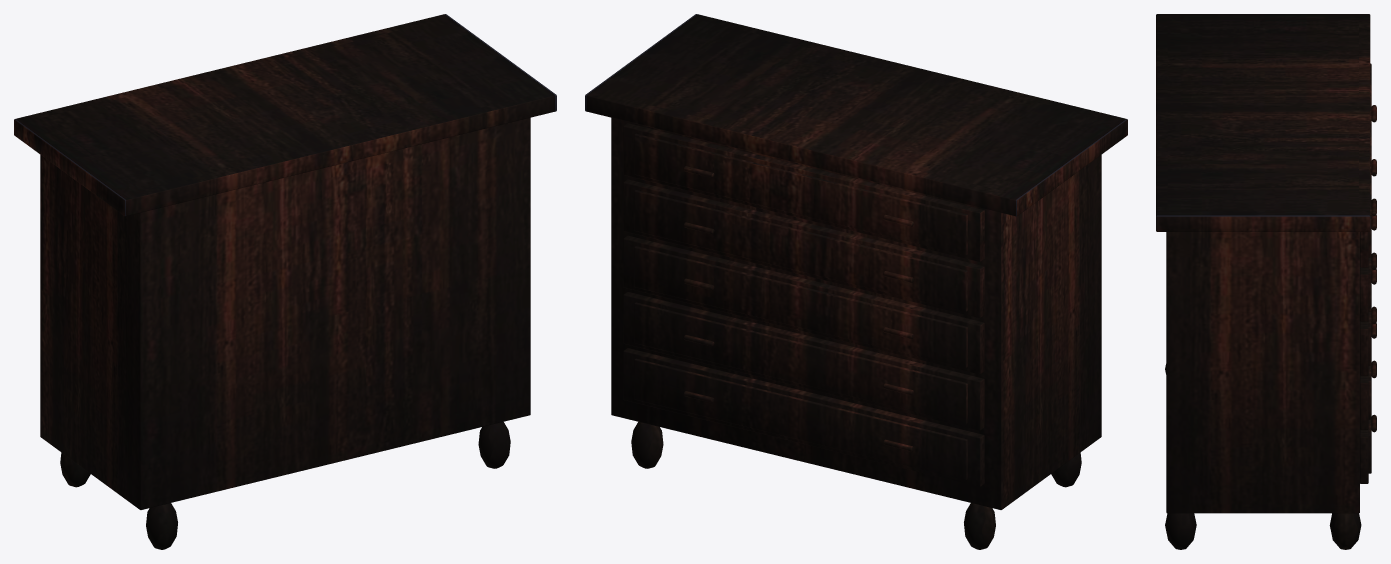
Rendered from Antique_Chest_03.fbx.
3 views of the same model, side by side, from view 1: azimuth 30°, elevation 25°; view 2: azimuth 150°, elevation 25°; view 3: azimuth 270°, elevation 25° (orthographic). The views are drawn at different scales.
Visible parts, largest first — view 1: Antique_Chest; view 2: Antique_Chest; view 3: Antique_Chest.
Part boxes in pixels (x1,y1,x2,y2): Antique_Chest: (14,14,556,549); Antique_Chest: (585,14,1127,549); Antique_Chest: (1156,14,1376,549).
Bounding box in the file's own units: 1.35 × 1.11 × 0.6215.
1 material, 1 textured.
